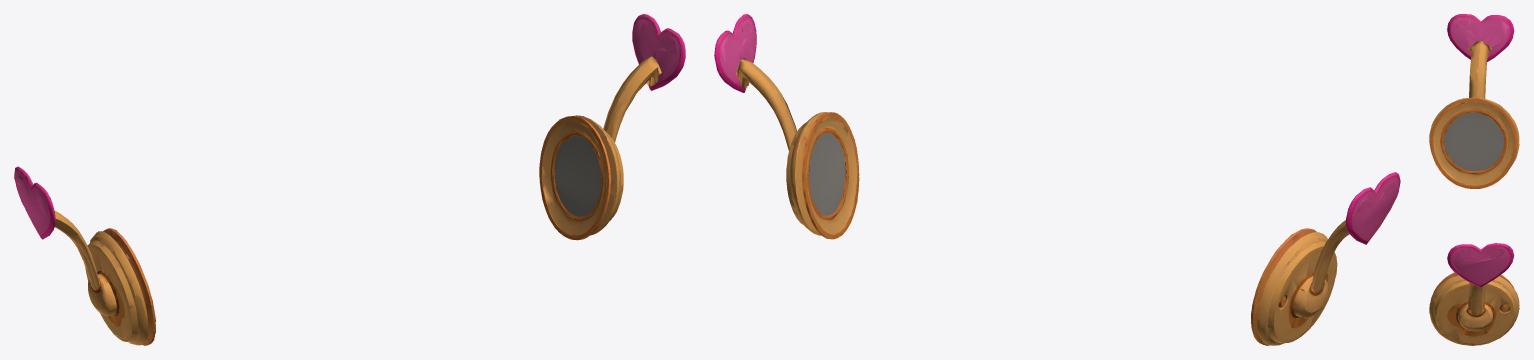
The model's file is mood-sense-2-final-shrunk.glb.
3 views of the same model, side by side, from view 1: azimuth 30°, elevation 25°; view 2: azimuth 150°, elevation 25°; view 3: azimuth 270°, elevation 25° (orthographic). The views are drawn at different scales.
Visible parts, largest first — view 1: ear_left, ear_right; view 2: ear_left, ear_right; view 3: ear_right, ear_left.
Boxes of the visible parts, x1,y1,x2,y2 form: ear_left: (539, 14, 685, 240); ear_right: (14, 166, 155, 345); ear_left: (714, 14, 859, 239); ear_right: (1251, 172, 1400, 345); ear_right: (1429, 14, 1519, 188); ear_left: (1429, 243, 1519, 345).
Size of the model in its own units: 0.7831 by 0.2165 by 0.1292.
2 materials, 2 textured.
